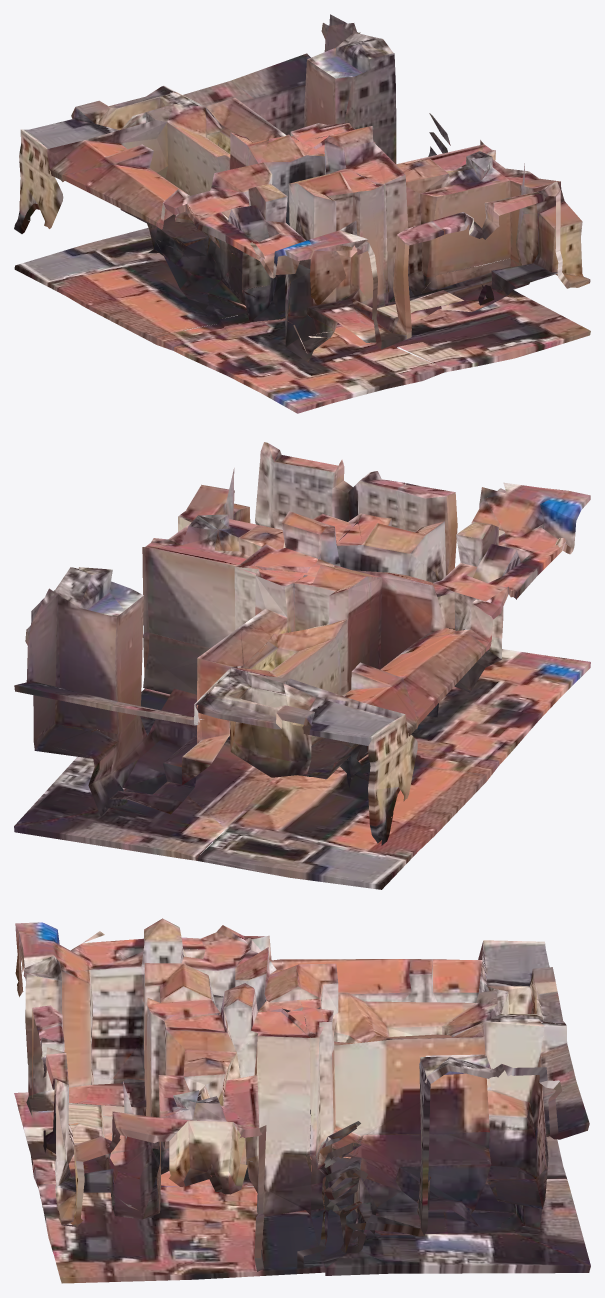
3 views of the same model, one above another, from view 1: azimuth 30°, elevation 25°; view 2: azimuth 150°, elevation 25°; view 3: azimuth 270°, elevation 25° (orthographic). The views are drawn at different scales.
Parts seen in each view (by area): view 1: Mesh_0; view 2: Mesh_0; view 3: Mesh_0.
Part boxes in pixels (x1,y1,x2,y2): Mesh_0: [14, 14, 590, 413]; Mesh_0: [14, 442, 590, 889]; Mesh_0: [14, 918, 590, 1283].
Bounding box in the file's own units: 66.6 × 35.21 × 82.75.
Materials: 2 (2 with a texture image).
